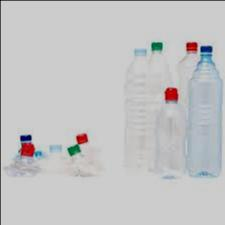bottle: (186, 44, 224, 180), (123, 44, 150, 176), (154, 84, 188, 181), (144, 32, 176, 87), (172, 39, 204, 84), (3, 140, 36, 183), (36, 142, 68, 176), (68, 139, 92, 183), (72, 132, 96, 174)
